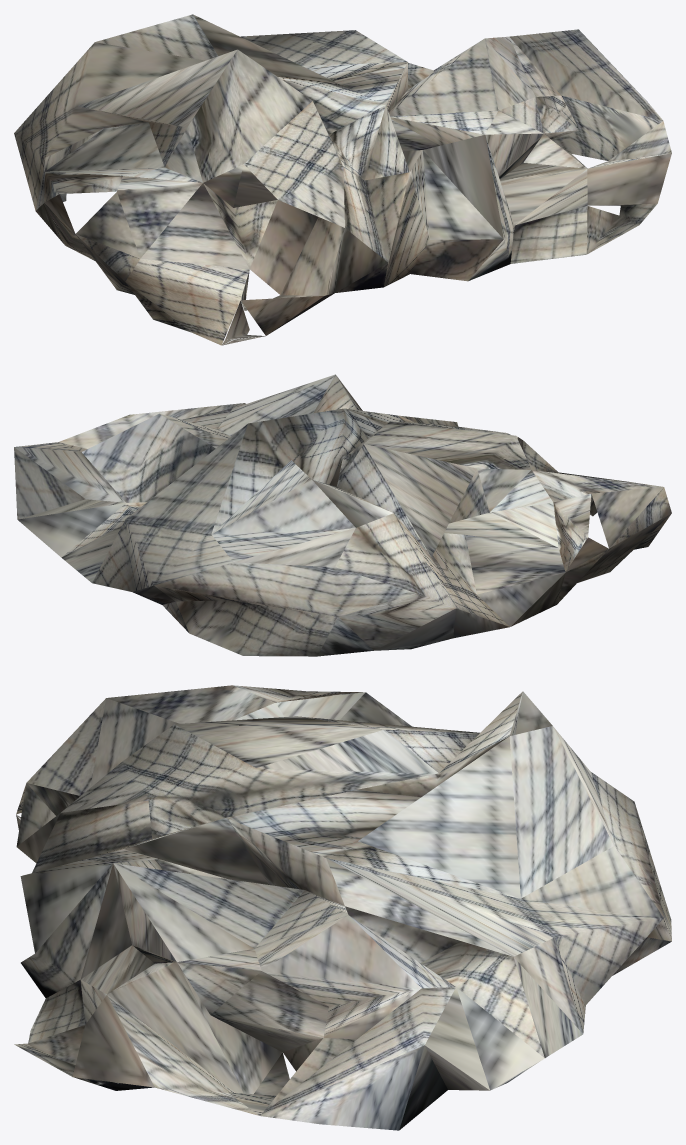
File: scan_fabric.fbx
The picture shows the model from 3 angles, top to bottom: view 1: azimuth 30°, elevation 25°; view 2: azimuth 150°, elevation 25°; view 3: azimuth 270°, elevation 25°; orthographic projection. The views are drawn at different scales.
Parts seen in each view (by area): view 1: scan_fabric; view 2: scan_fabric; view 3: scan_fabric.
Boxes of the visible parts, box(x1,y1,x2,y2) form: scan_fabric: box(14, 14, 671, 345); scan_fabric: box(14, 374, 671, 656); scan_fabric: box(14, 685, 671, 1130).
Bounding box in the file's own units: 36.64 × 8.91 × 27.63.
1 material, 1 textured.
